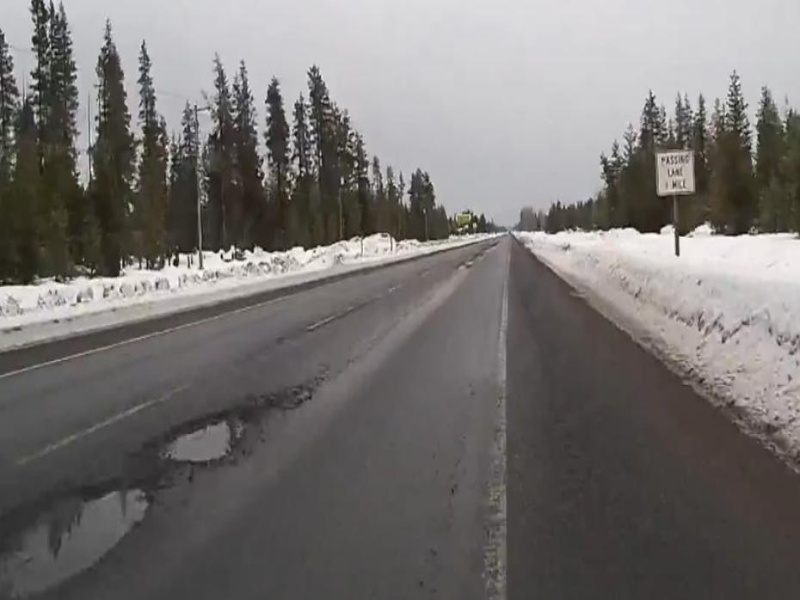pothole: (1, 480, 164, 593), (144, 410, 256, 473)
